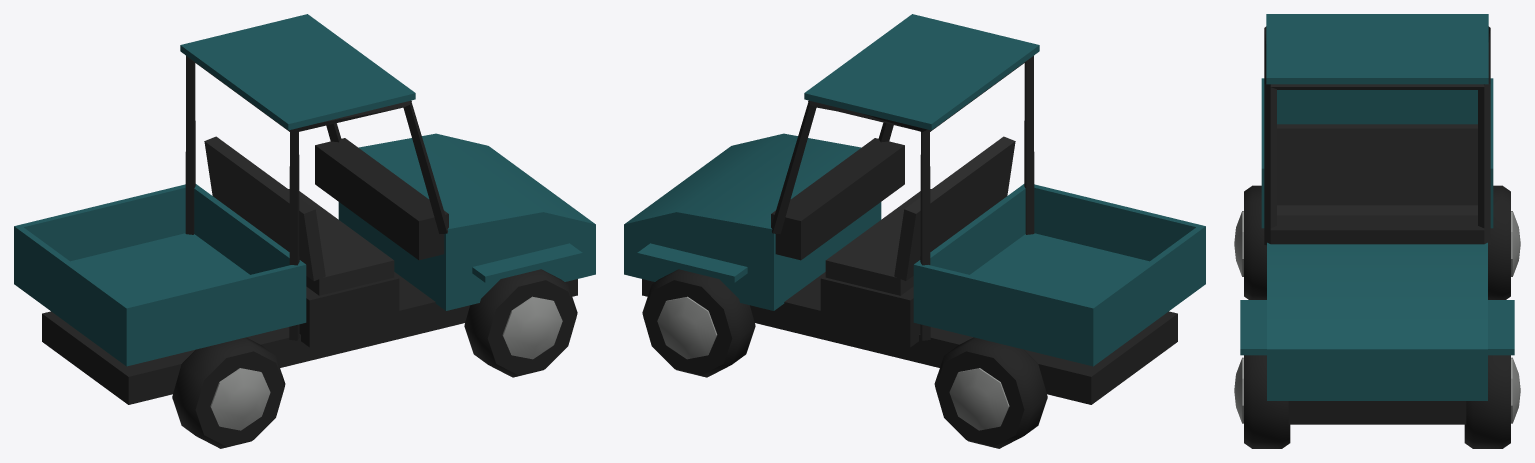
The model's file is SM_Prop_farm_buggy_0_LOD1.glb.
3 renders of one model, left to right at view 1: azimuth 30°, elevation 25°; view 2: azimuth 150°, elevation 25°; view 3: azimuth 270°, elevation 25°, orthographic. The views are drawn at different scales.
Parts seen in each view (by area): view 1: SM_Prop_farm_buggy_0_LOD1; view 2: SM_Prop_farm_buggy_0_LOD1; view 3: SM_Prop_farm_buggy_0_LOD1.
Boxes of the visible parts, box(x1,y1,x2,y2) form: SM_Prop_farm_buggy_0_LOD1: box(14, 14, 595, 448); SM_Prop_farm_buggy_0_LOD1: box(624, 14, 1205, 448); SM_Prop_farm_buggy_0_LOD1: box(1234, 14, 1520, 448).
Bounding box in the file's own units: 3.15 × 1.92 × 1.61.
